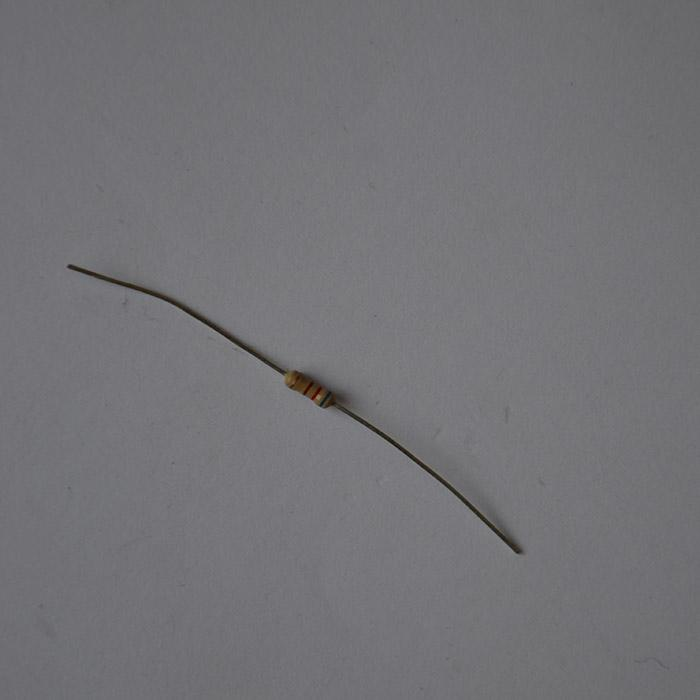resistor: (284, 369, 334, 410)
